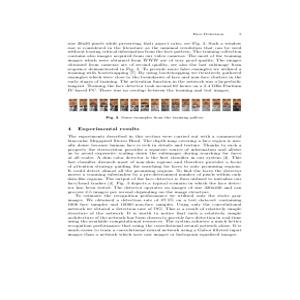image: (66, 97, 241, 115)
text: (65, 125, 240, 236), (65, 41, 242, 95)
